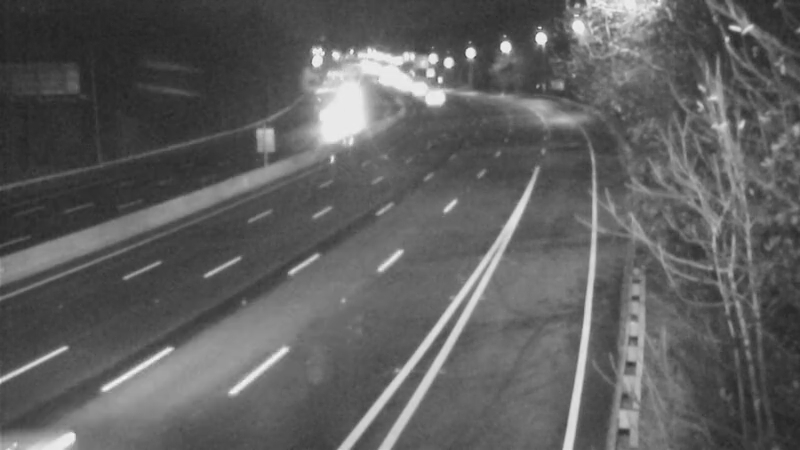vehicle: (404, 74, 454, 124)
